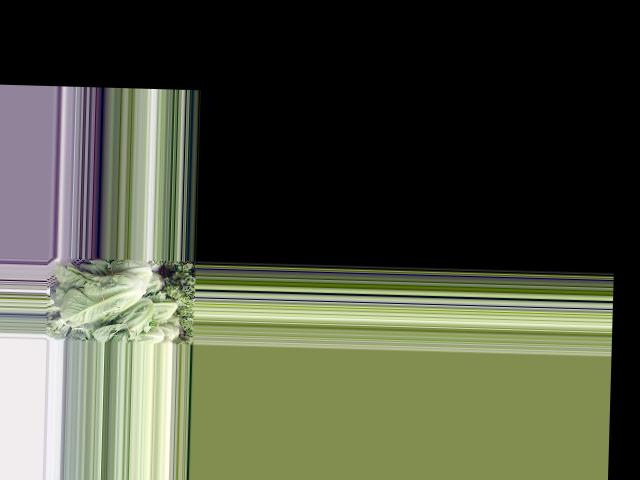lettuce: (90, 297, 157, 340)
